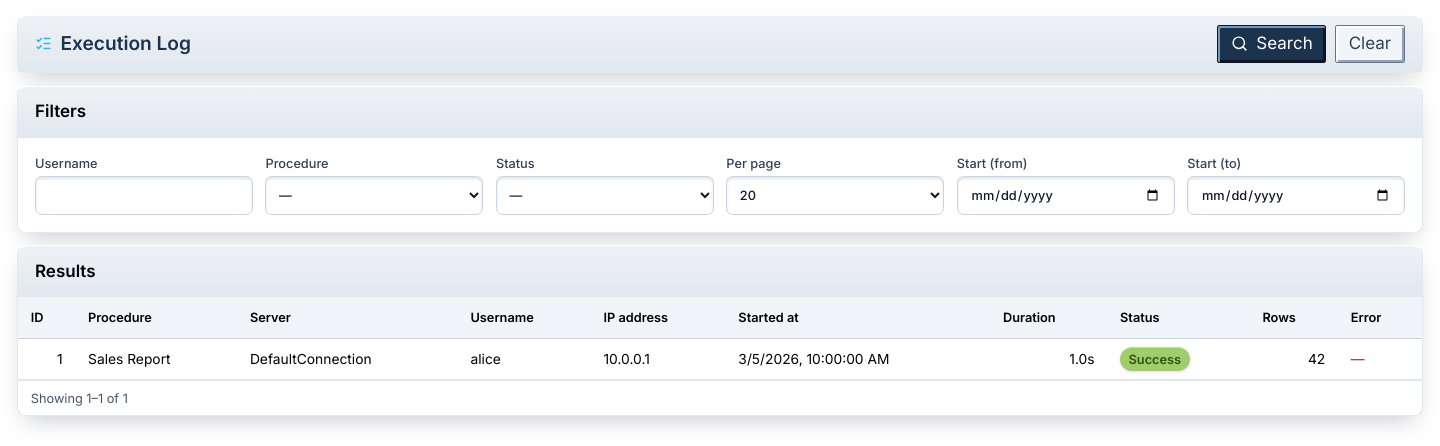
Scenario: Clear resets filters back to empty and re-queries
Expected: the text "Sales Report" is shown, [75,339,237,380]
Type "alice" into the field labelled "Username" at point(144, 195), box [35,176,253,215]
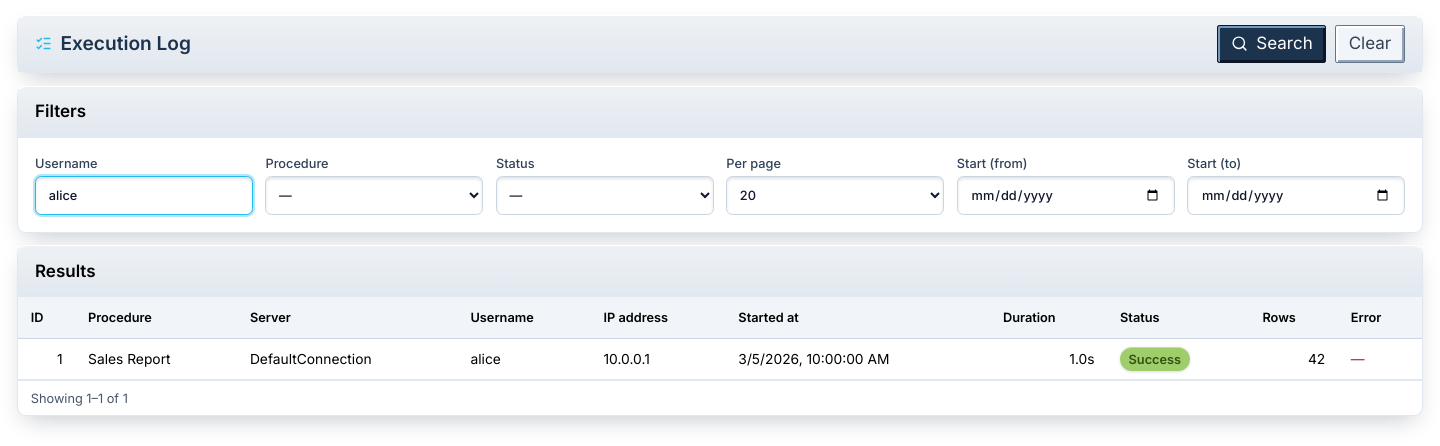
Click the button "Search" at point(1272, 44), box [1217,24,1326,63]
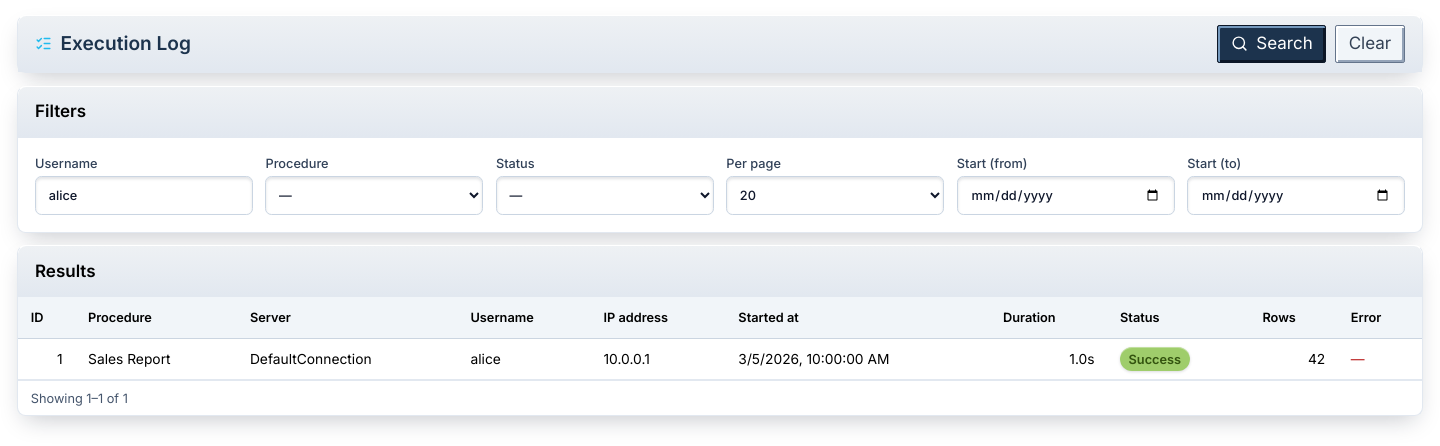
Click the button "Clear" at point(1370, 44), box [1335,24,1405,63]
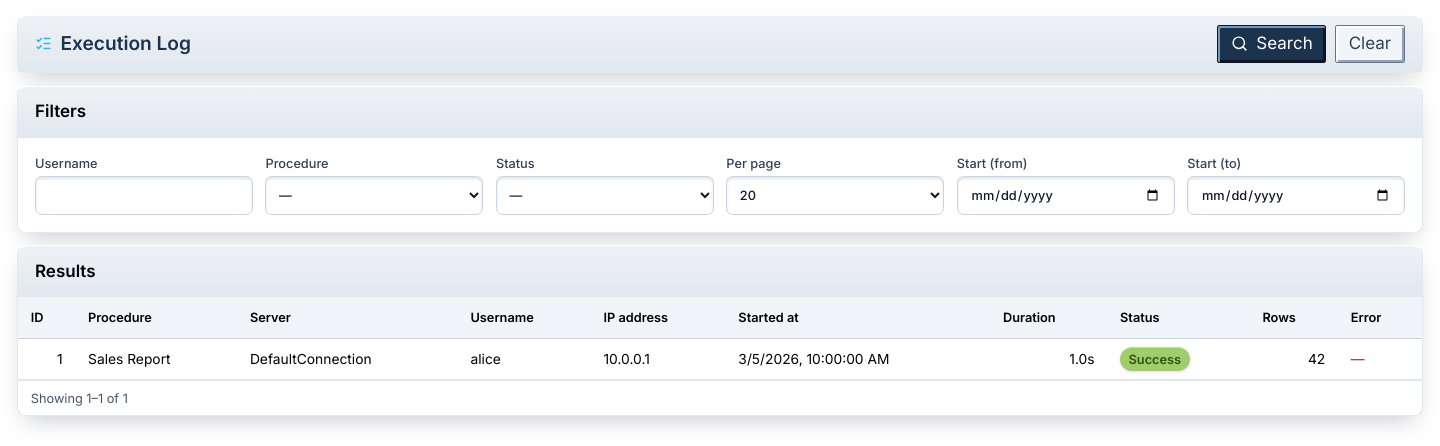
Expected: the field labelled "Username" is empty, [35,176,253,215]
